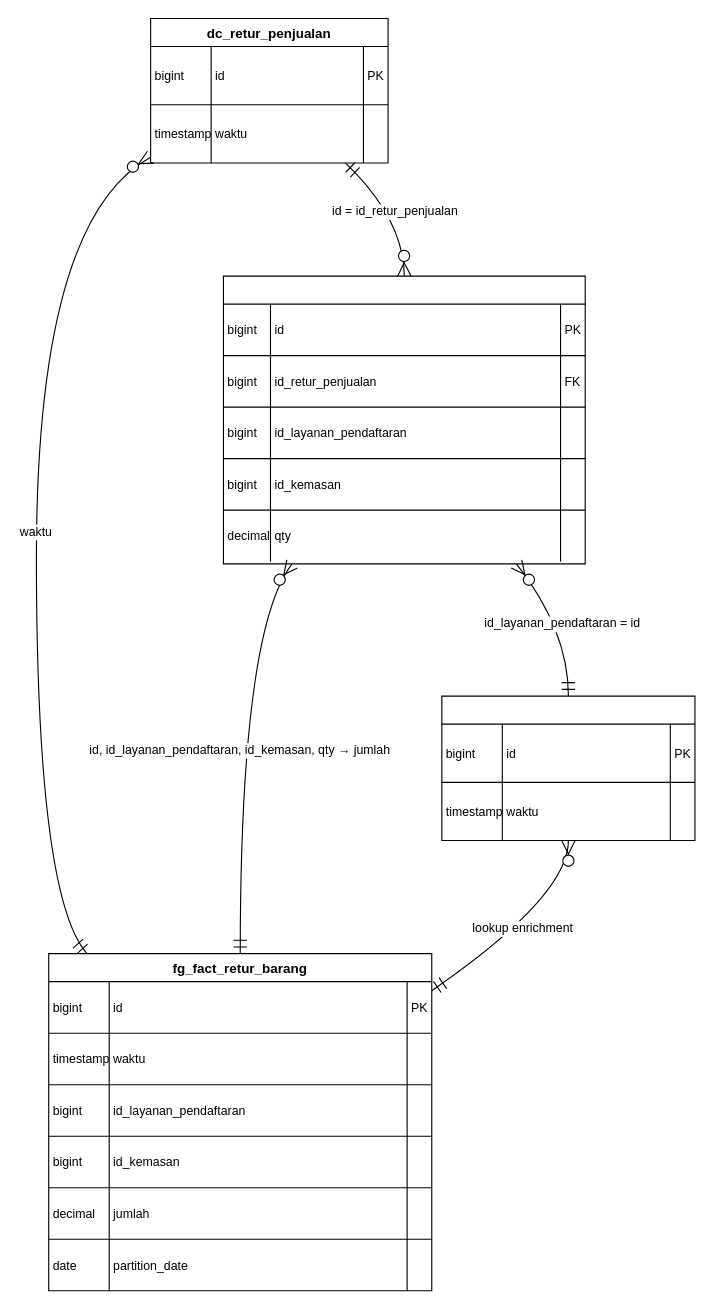
Some shapes in this 713 by 1309 pixel diagram are drawn without their labels. The shapes that lost their labels are listed below. From the top down, each one's box as (x1, y1, x2, y2) in pixels, then its label:
(222, 275, 585, 564): dc_detur_penjualan
(441, 695, 695, 841): dc_layanan_pendaftaran
